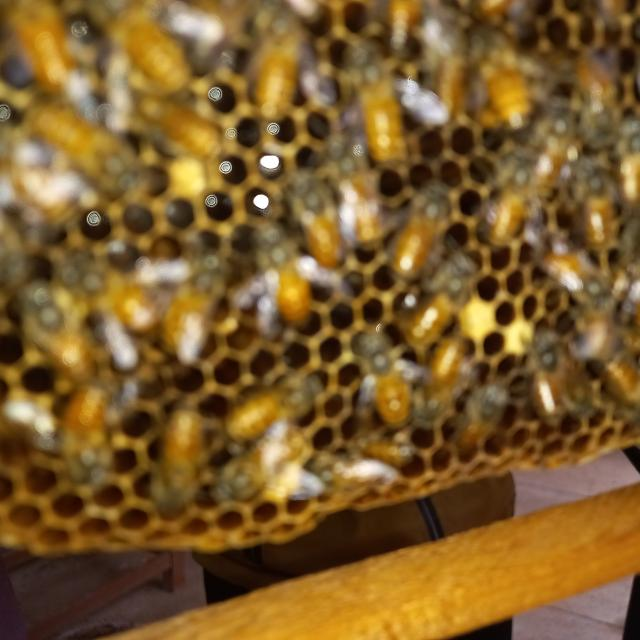honeybee: (31, 104, 140, 194), (15, 278, 100, 382), (56, 248, 156, 332), (343, 40, 402, 172), (222, 372, 324, 446), (248, 224, 312, 333), (322, 141, 379, 258), (222, 429, 311, 502), (113, 8, 192, 86), (472, 23, 524, 134), (167, 257, 229, 350), (16, 0, 75, 95), (404, 266, 474, 346), (0, 155, 80, 223), (398, 180, 448, 287), (58, 386, 110, 487), (415, 331, 471, 422), (260, 12, 305, 121), (161, 410, 206, 517), (523, 337, 577, 426), (538, 250, 616, 311), (581, 48, 627, 151), (361, 334, 408, 427), (487, 152, 535, 243), (146, 99, 227, 151), (458, 377, 507, 456), (298, 181, 342, 267), (573, 166, 619, 246), (530, 122, 571, 194), (603, 343, 640, 407), (357, 432, 421, 461)
